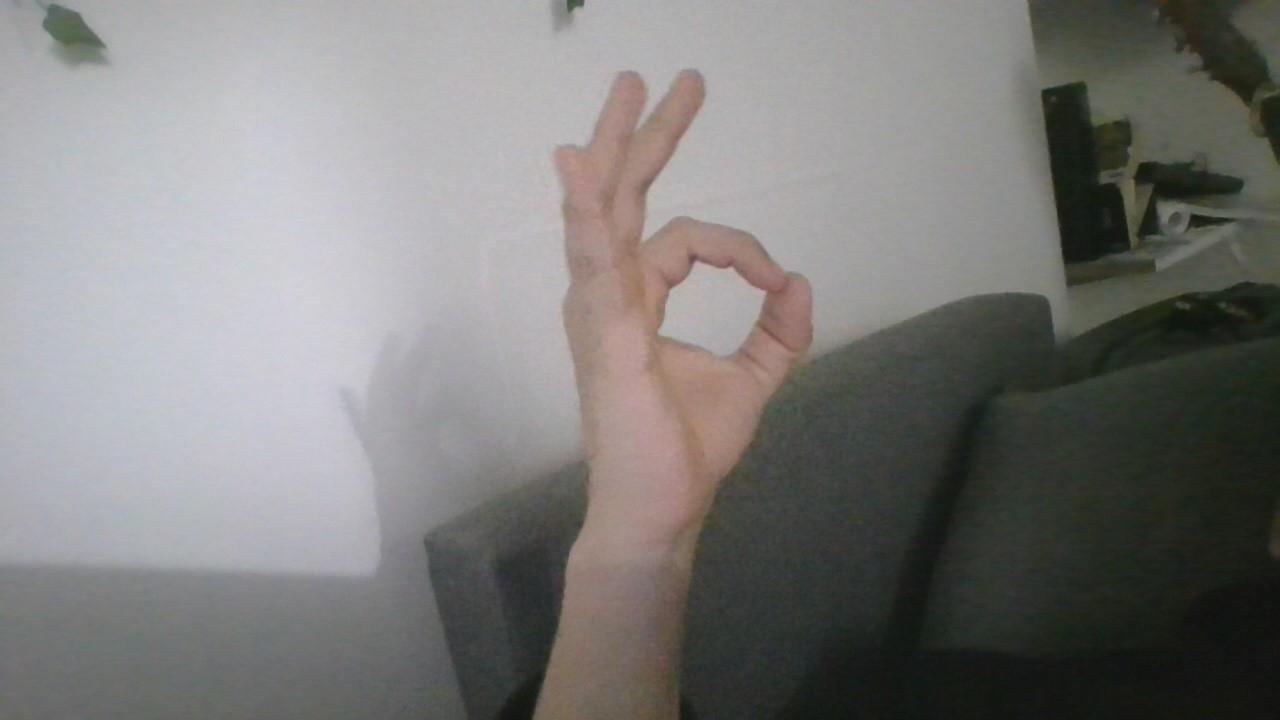zero: (500, 55, 853, 533)
